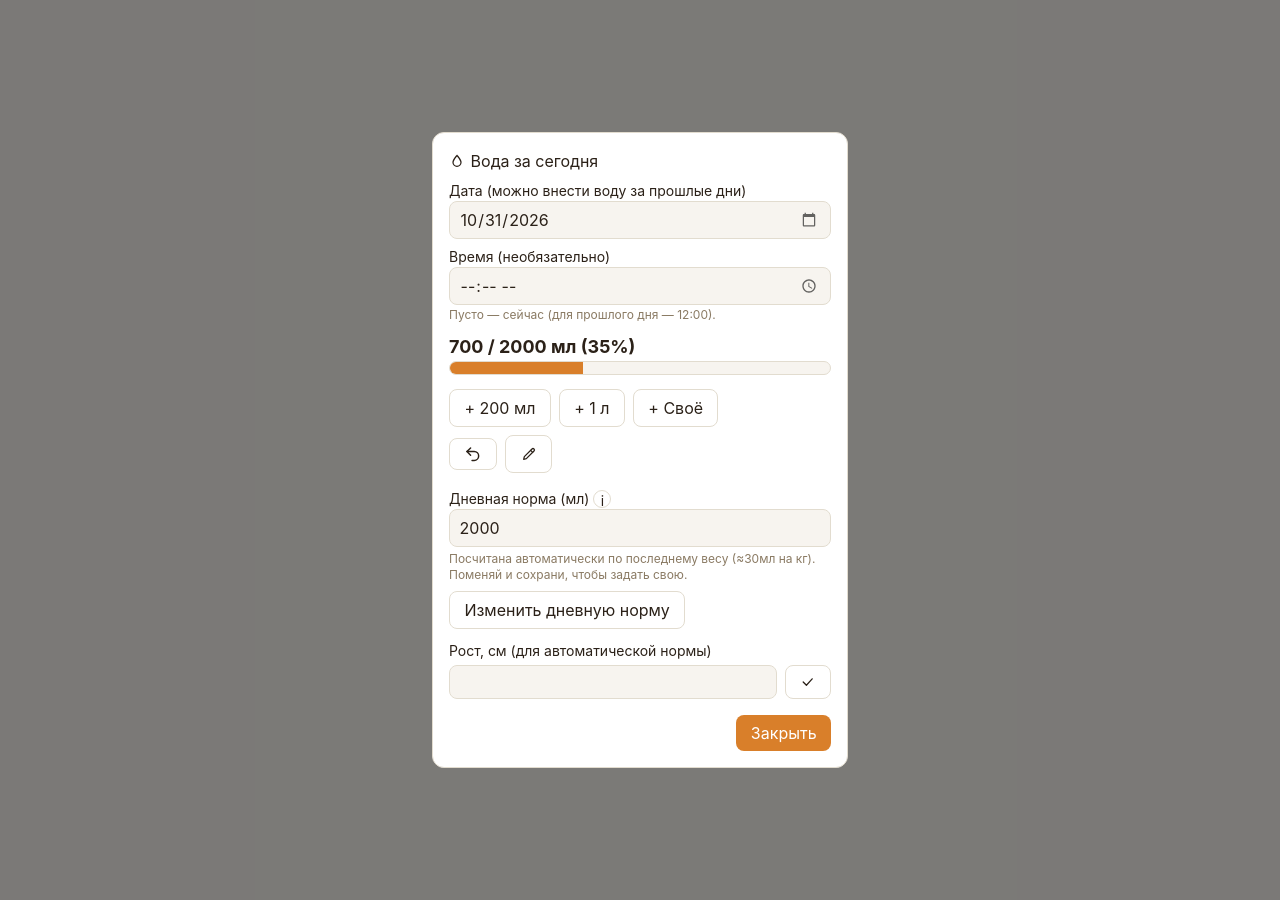
Test: WaterModal: своё количество воды › открытие «своего количества» закрывает правку суммы за день и наоборот
Click the button with test id "edit-total": [529, 454] box left=505, top=435, right=552, bottom=473
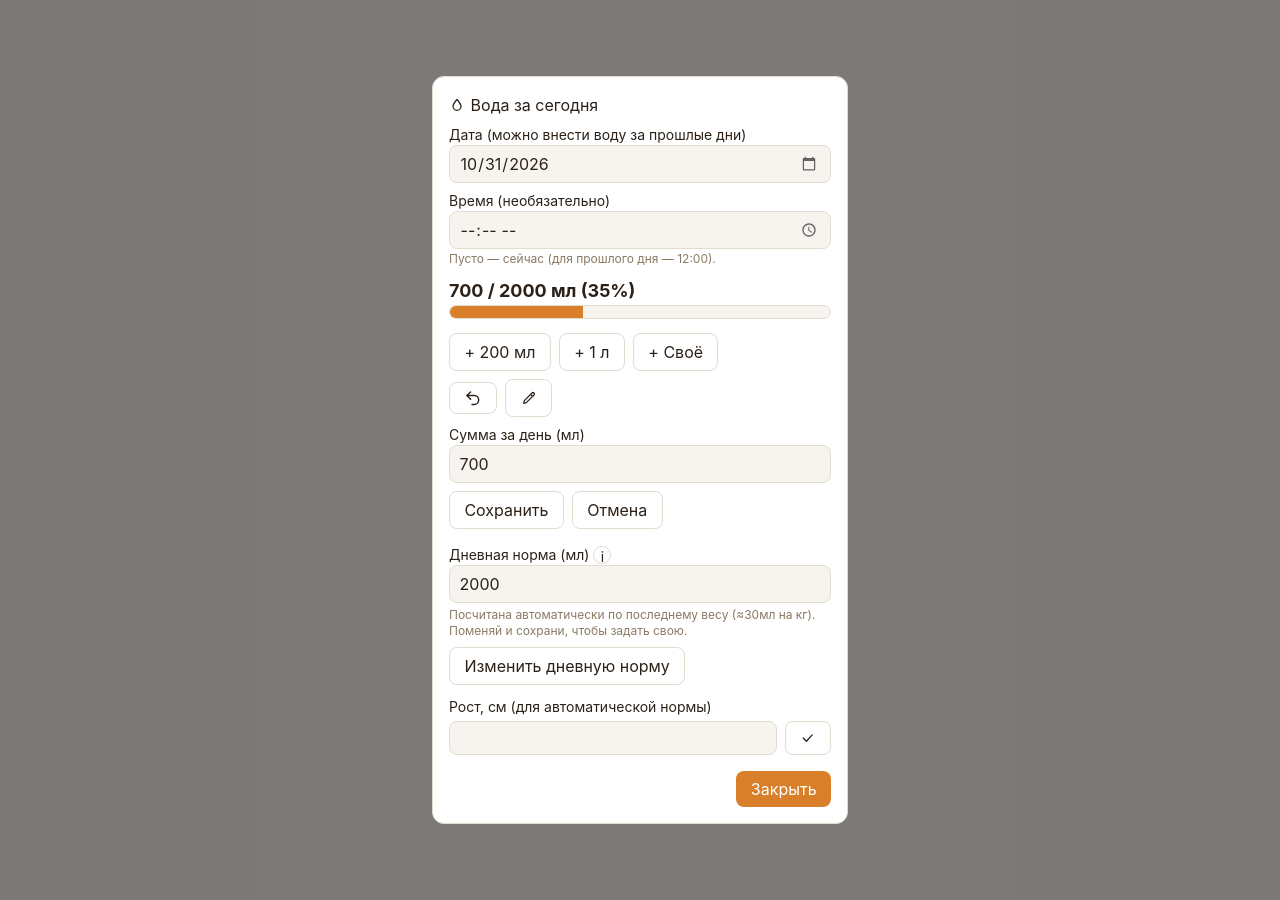
Now the element with test id "edit-total-form" is shown, box left=449, top=425, right=831, bottom=529
Click the button with test id "add-custom": [676, 352] box left=633, top=333, right=718, bottom=371
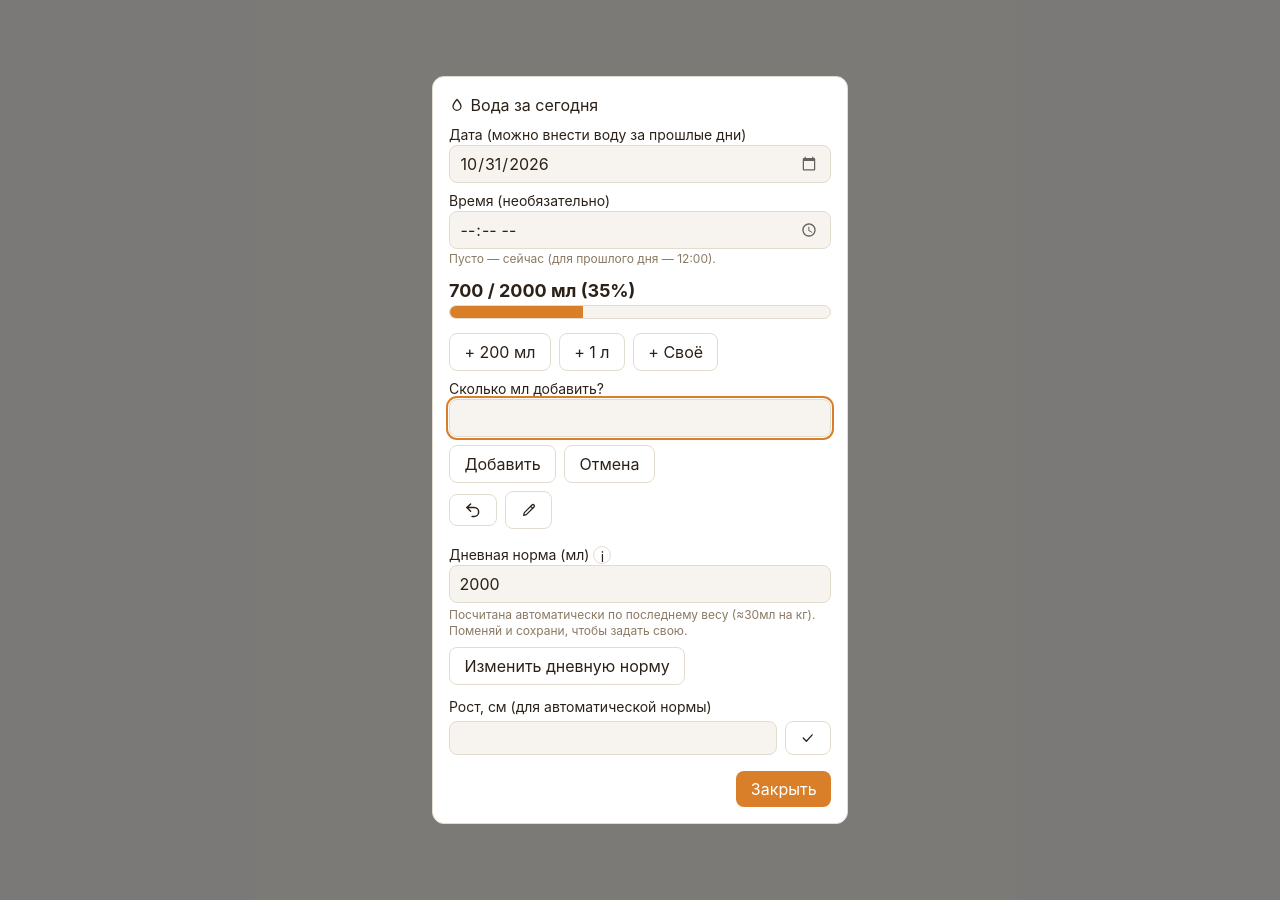
Now the element with test id "custom-form" is shown, box left=449, top=379, right=831, bottom=483
Click the button with test id "edit-total": [529, 510] box left=505, top=491, right=552, bottom=529
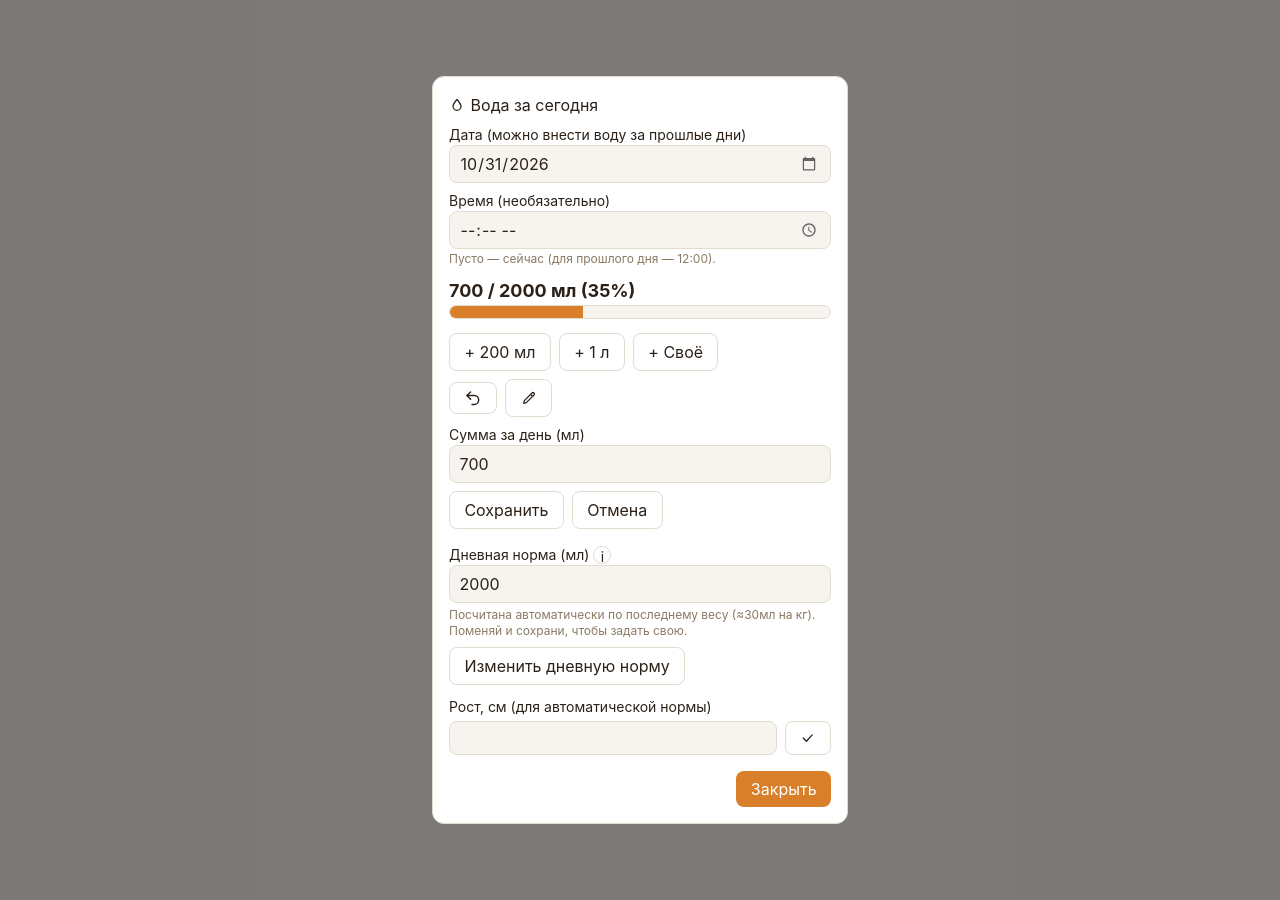
Now the element with test id "edit-total-form" is shown, box left=449, top=425, right=831, bottom=529
